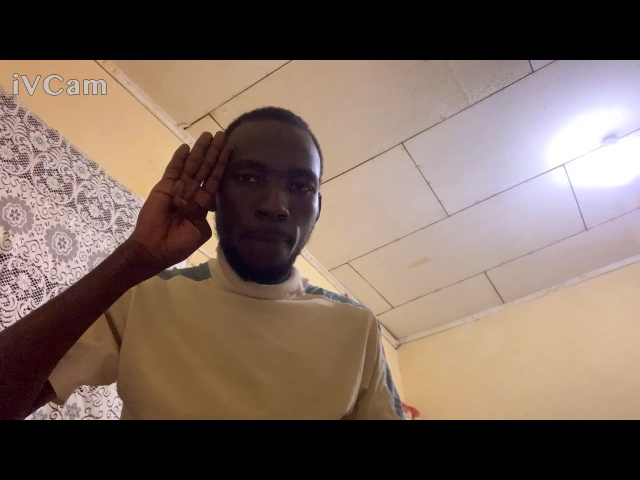s'il te plait: (132, 125, 237, 275)
